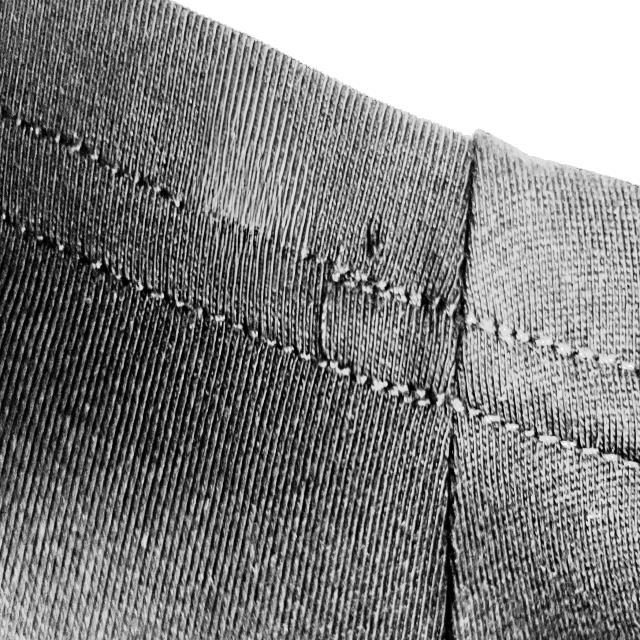Sewing_error: (303, 236, 358, 397)
